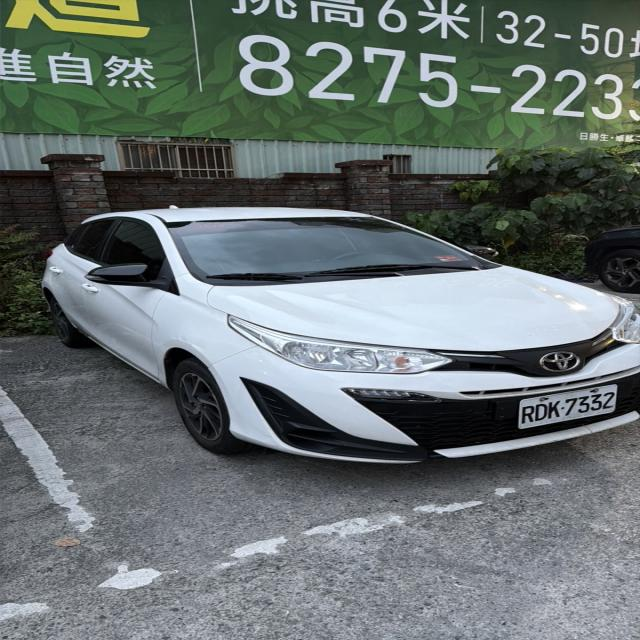license plate: (518, 386, 618, 428)
wheel: (172, 358, 248, 454)
